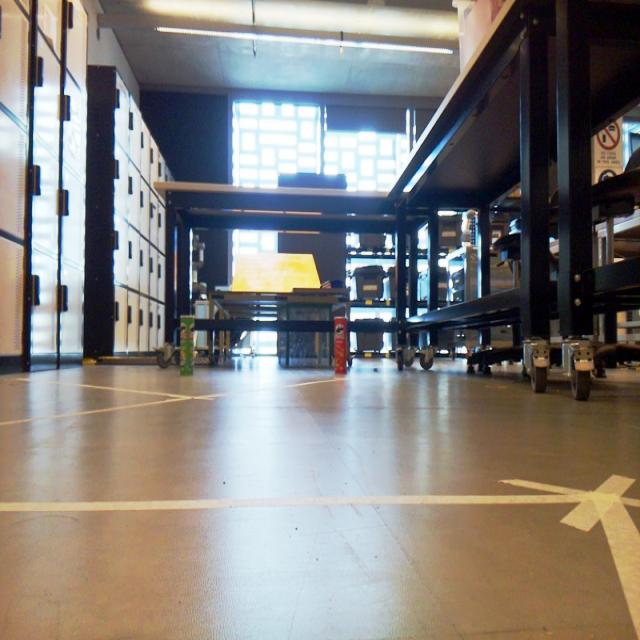greenpringles: (172, 301, 210, 382)
redpringles: (326, 307, 360, 390)
